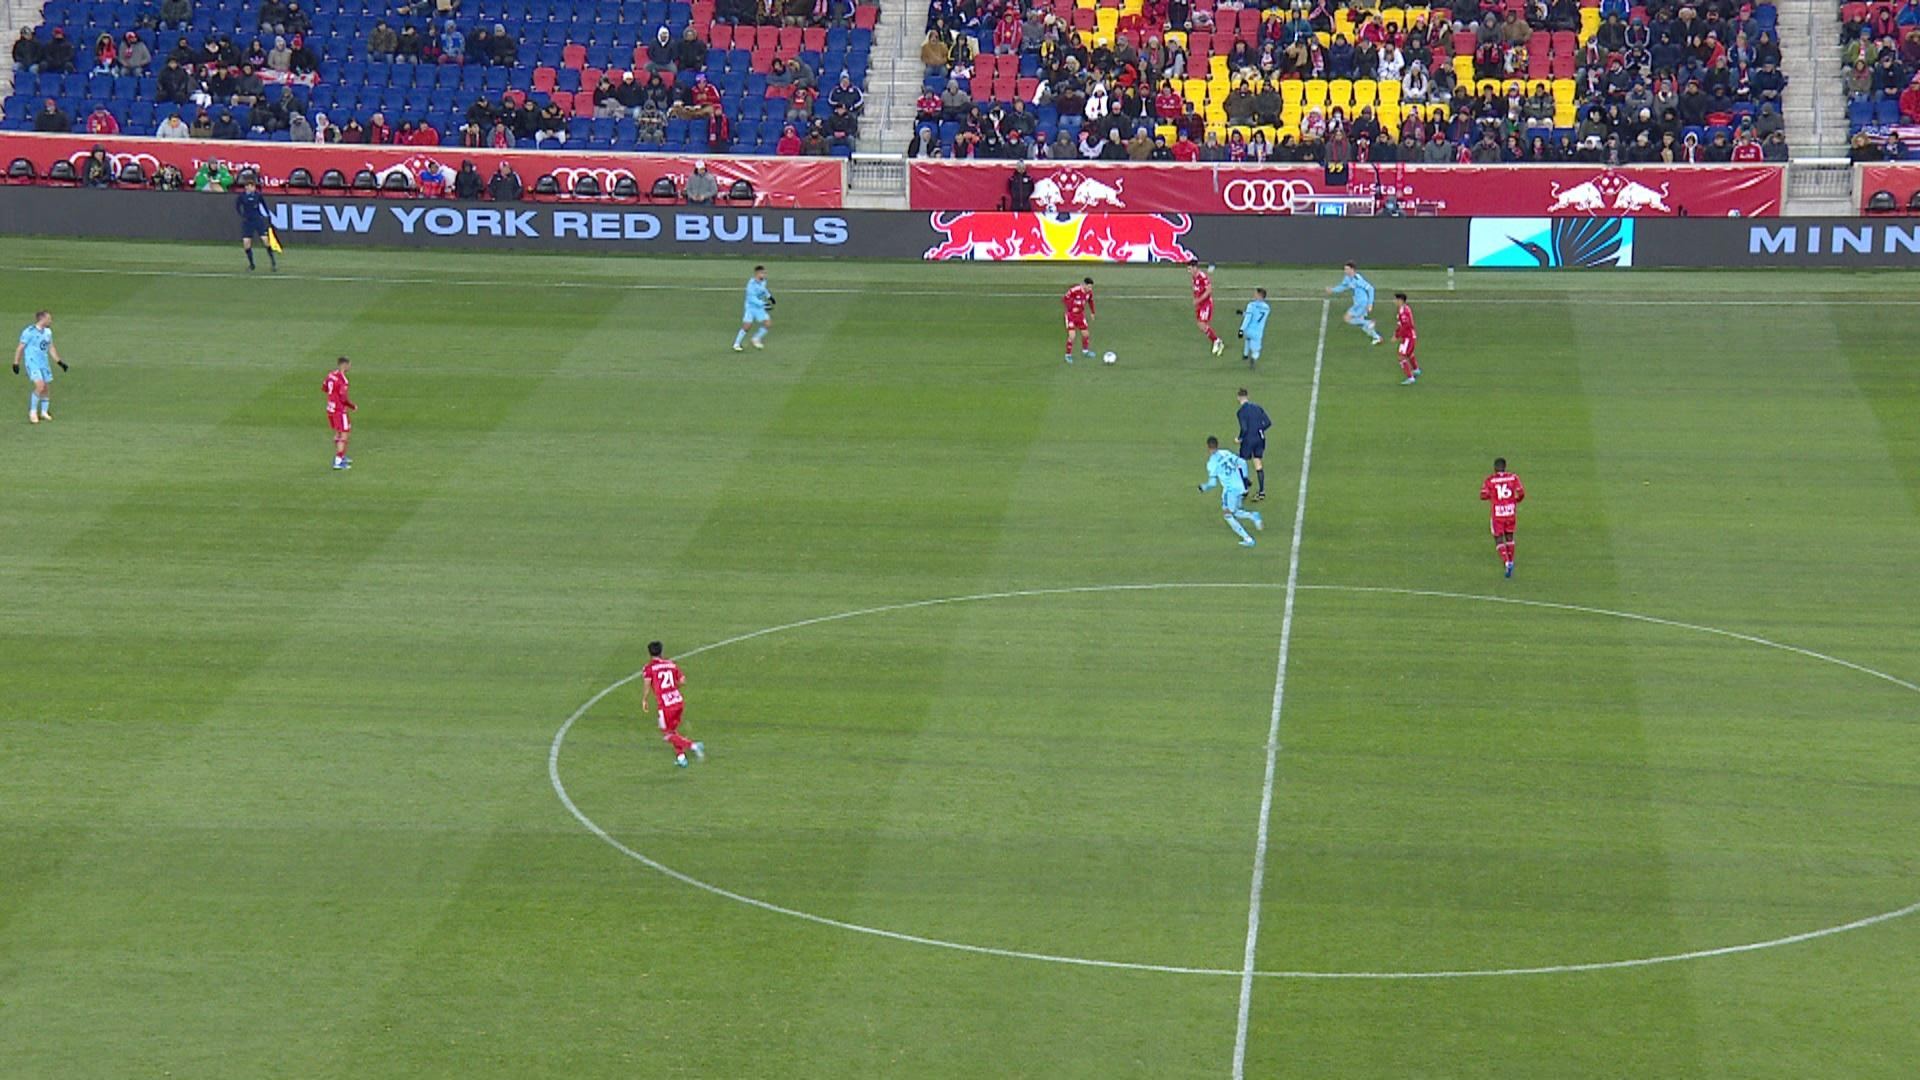football: (1102, 348, 1118, 367)
